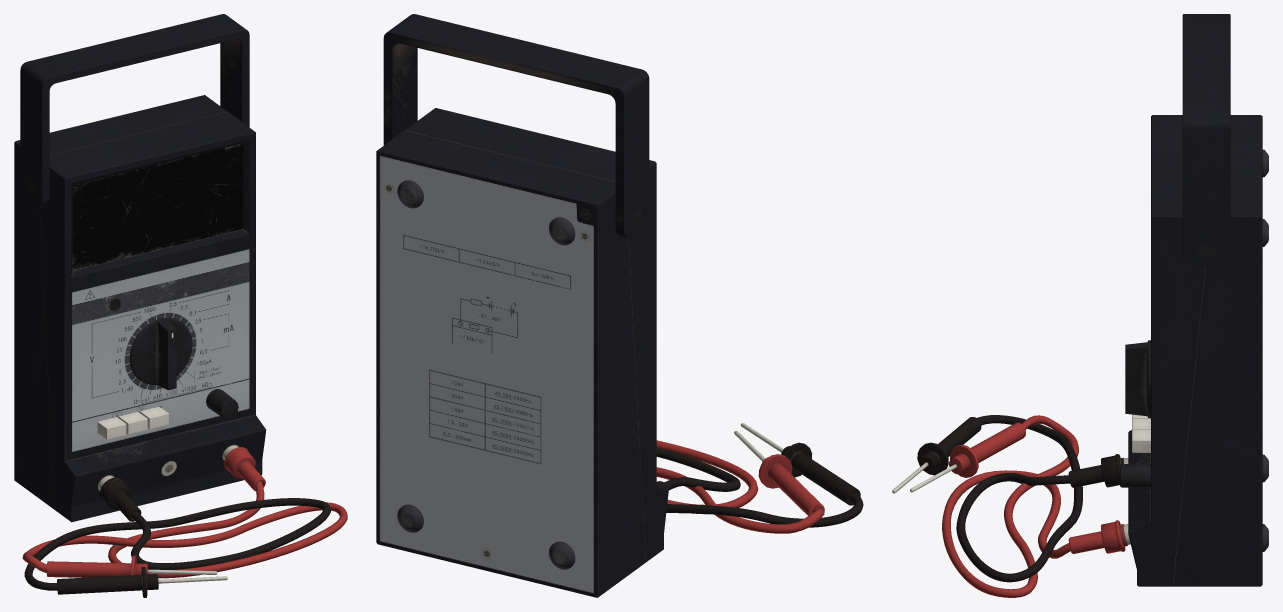
3 views of the same model, side by side, from view 1: azimuth 30°, elevation 25°; view 2: azimuth 150°, elevation 25°; view 3: azimuth 270°, elevation 25° (orthographic). The views are drawn at different scales.
Visible parts, largest first — view 1: retro_multimeter_LOD0, retro_multimeter_cables_LOD0, retro_multimeter_handle_LOD0, retro_multimeter_dial_LOD0, retro_multimeter_buttons_LOD0, retro_multimeter_knob_LOD0; view 2: retro_multimeter_LOD0, retro_multimeter_handle_LOD0, retro_multimeter_cables_LOD0; view 3: retro_multimeter_LOD0, retro_multimeter_cables_LOD0, retro_multimeter_handle_LOD0, retro_multimeter_dial_LOD0, retro_multimeter_knob_LOD0, retro_multimeter_buttons_LOD0.
Boxes of the visible parts, <box> form: retro_multimeter_LOD0: <box>14,95,266,522</box>; retro_multimeter_cables_LOD0: <box>22,445,347,597</box>; retro_multimeter_handle_LOD0: <box>20,14,249,207</box>; retro_multimeter_dial_LOD0: <box>129,318,192,390</box>; retro_multimeter_buttons_LOD0: <box>97,406,168,439</box>; retro_multimeter_knob_LOD0: <box>206,389,238,418</box>; retro_multimeter_LOD0: <box>376,108,668,597</box>; retro_multimeter_handle_LOD0: <box>383,14,649,238</box>; retro_multimeter_cables_LOD0: <box>656,423,863,533</box>; retro_multimeter_LOD0: <box>1128,115,1268,586</box>; retro_multimeter_cables_LOD0: <box>892,415,1130,597</box>; retro_multimeter_handle_LOD0: <box>1182,14,1230,266</box>; retro_multimeter_dial_LOD0: <box>1125,340,1150,418</box>; retro_multimeter_knob_LOD0: <box>1120,463,1150,487</box>; retro_multimeter_buttons_LOD0: <box>1132,414,1150,452</box>.
Bounding box in the file's own units: 0.216 × 0.2786 × 0.2026.
2 materials, 2 textured.
